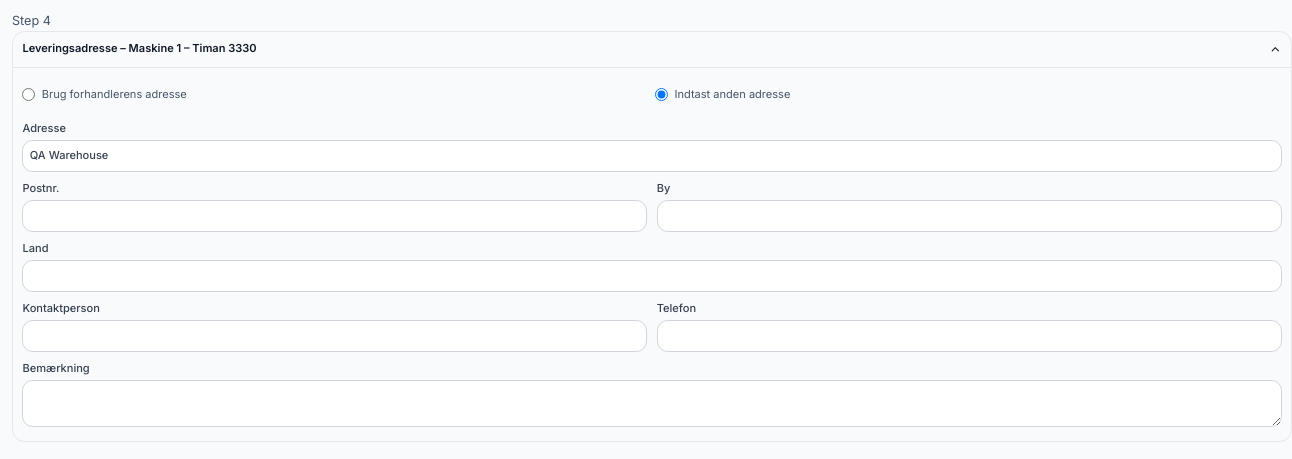
Test: per-machine delivery destination snapshots › opens and closes a new single-machine section without changing address data
Earlier steps of the test are not shown.
Type "7000" into the field labelled "Postnr.". click: (335, 216)
box: [22,200,647,232]
Type "Fredericia" into the field labelled "By". click: (969, 216)
box: [657,200,1282,232]
Type "DK" into the field labelled "Land". click: (652, 276)
box: [22,260,1282,292]
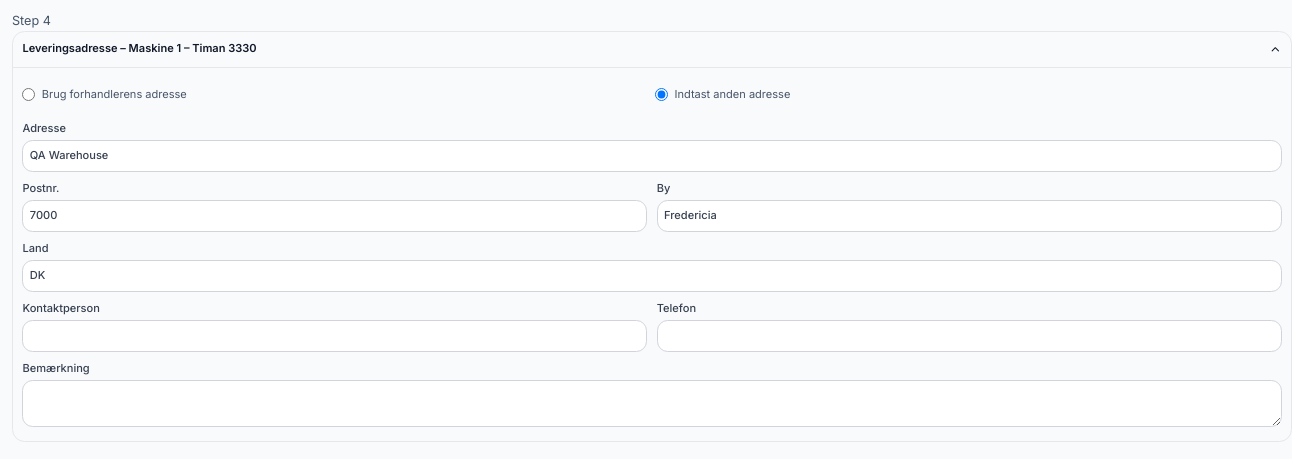
Type "QA Contact" into the field labelled "Kontaktperson". click: (335, 336)
box: [22,320,647,352]
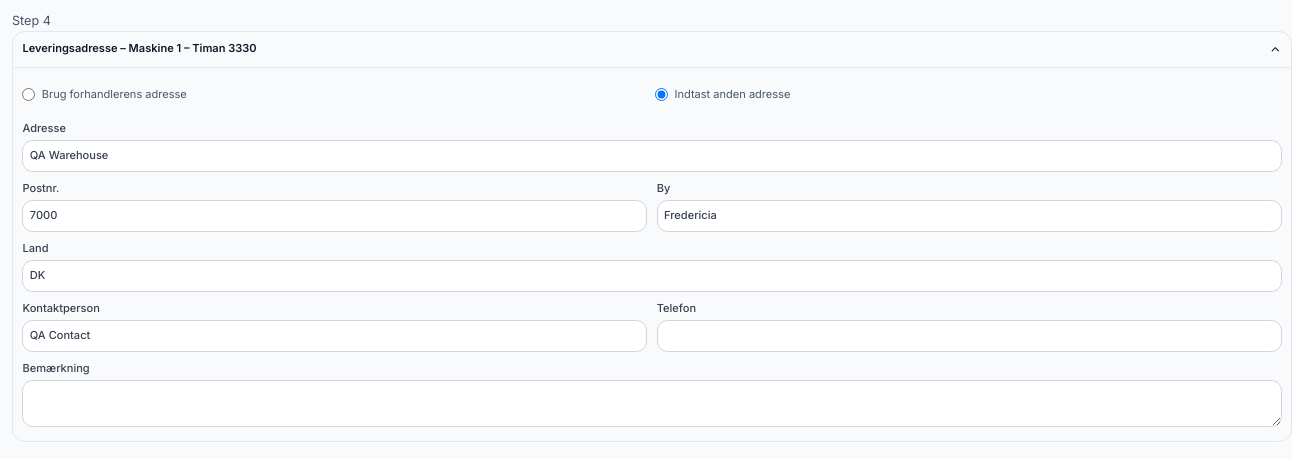
Type "12345678" into the field labelled "Telefon". click: (969, 336)
box: [657,320,1282,352]
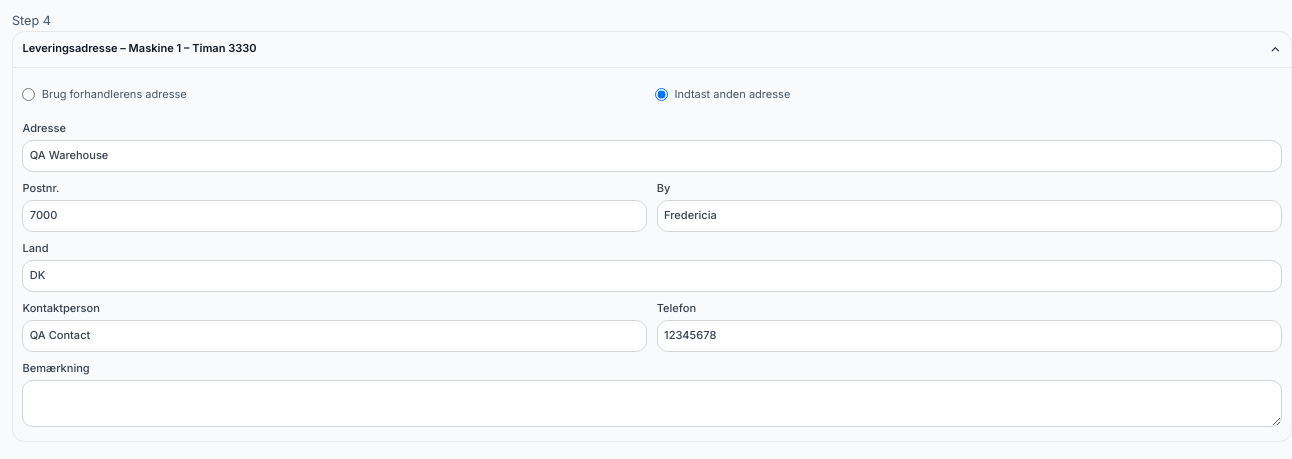
Type "QA Gate 2" into the text box labelled "Bemærkning". click: (652, 404)
box: [22,380,1282,427]
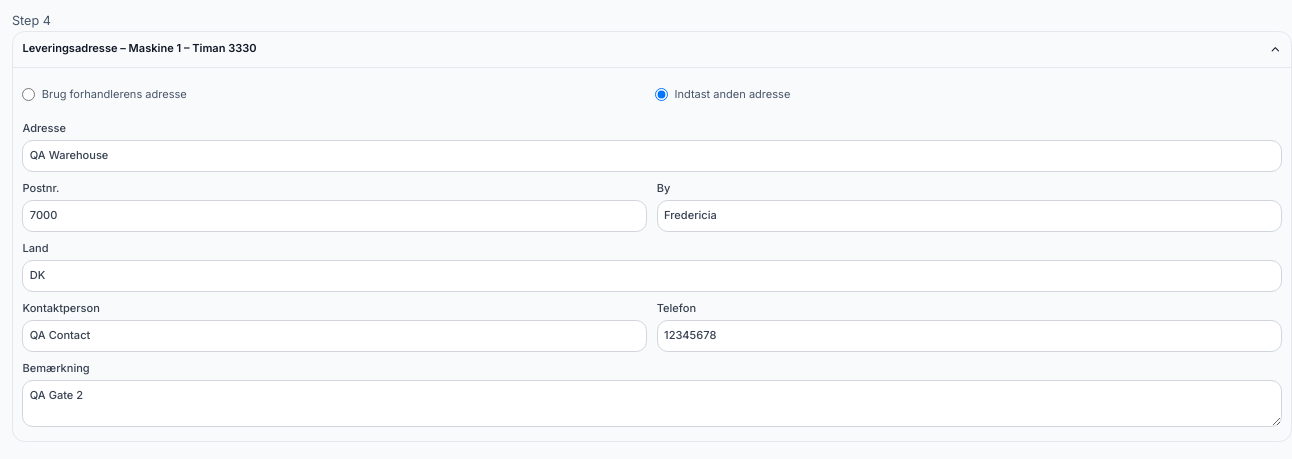
Click the heading "Leveringsadresse – Maskine 1 – Timan 3330". click: (140, 48)
box: [22,41,1282,56]
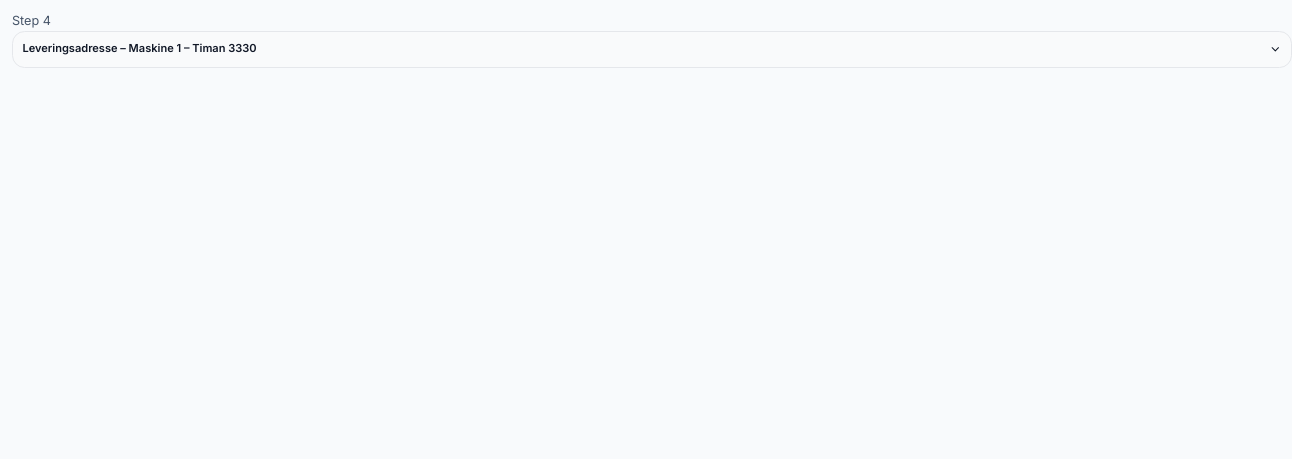
Expected: the element with test id "machine-delivery-m0_1" does not have attribute open, [12,31,1291,68]
Click the heading "Leveringsadresse – Maskine 1 – Timan 3330". click: (140, 48)
box: [22,41,1282,56]
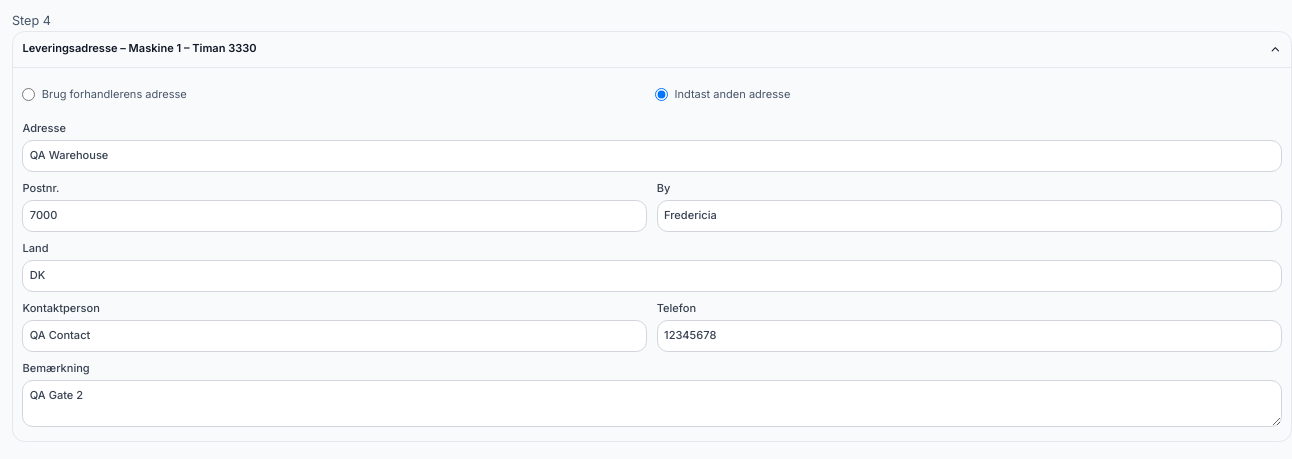
Expected: the radio button labelled "Indtast anden adresse" is checked, [655,88,668,101]
